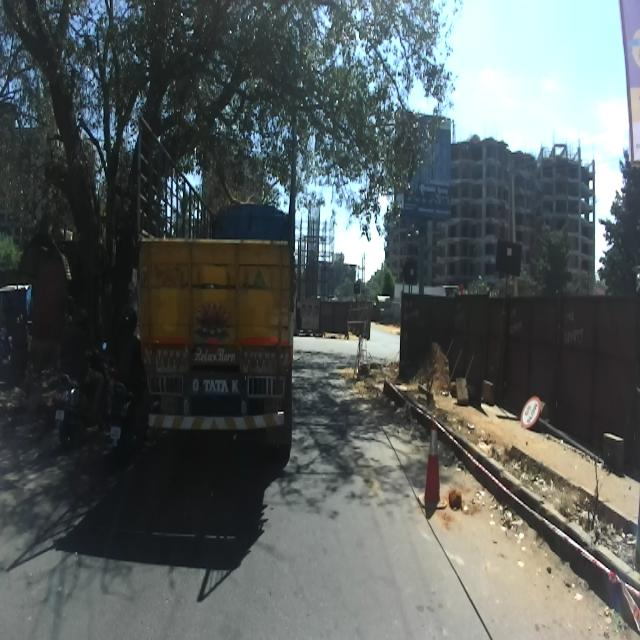barrier ahead at: (412, 416, 449, 522)
truck ahead at: (130, 98, 304, 473)
